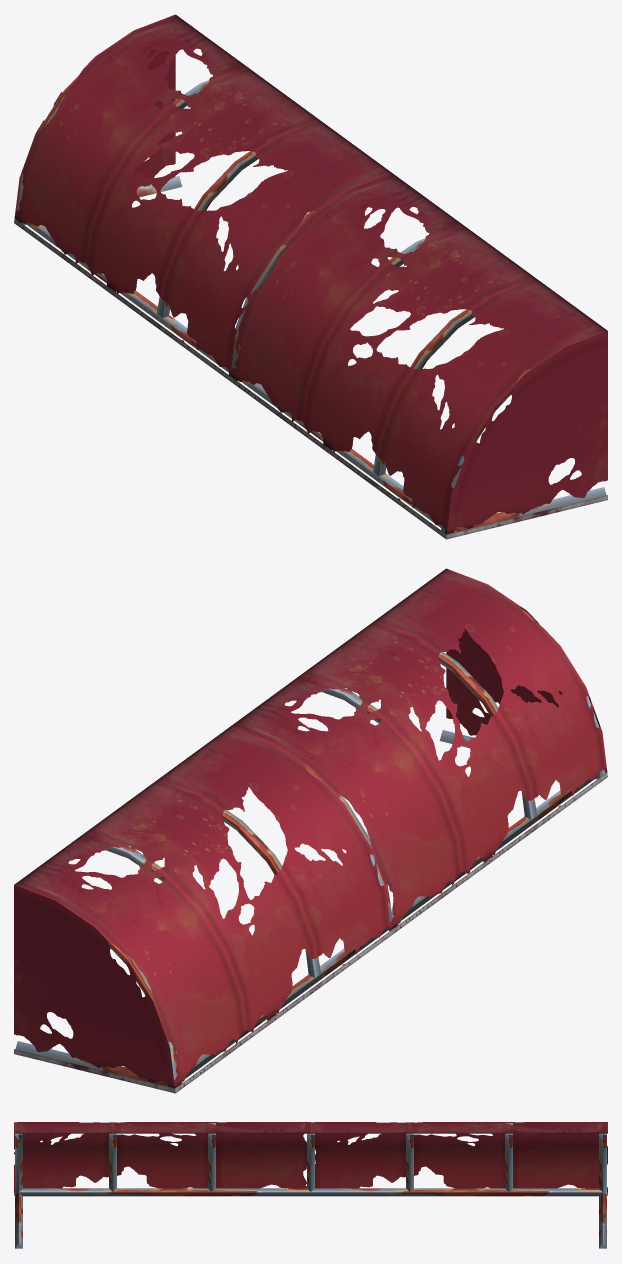
Rendered from awning04_6m.fbx.
3 views of the same model, one above another, from view 1: azimuth 30°, elevation 25°; view 2: azimuth 150°, elevation 25°; view 3: azimuth 270°, elevation 25° (orthographic). The views are drawn at different scales.
Parts seen in each view (by area): view 1: awning04_6m; view 2: awning04_6m; view 3: awning04_6m.
Part boxes in pixels (left/top/right/bottom): awning04_6m: left=14, top=14, right=607, bottom=539; awning04_6m: left=14, top=568, right=607, bottom=1093; awning04_6m: left=14, top=1122, right=607, bottom=1248.
Size of the model in its own units: 131 by 130 by 602.
